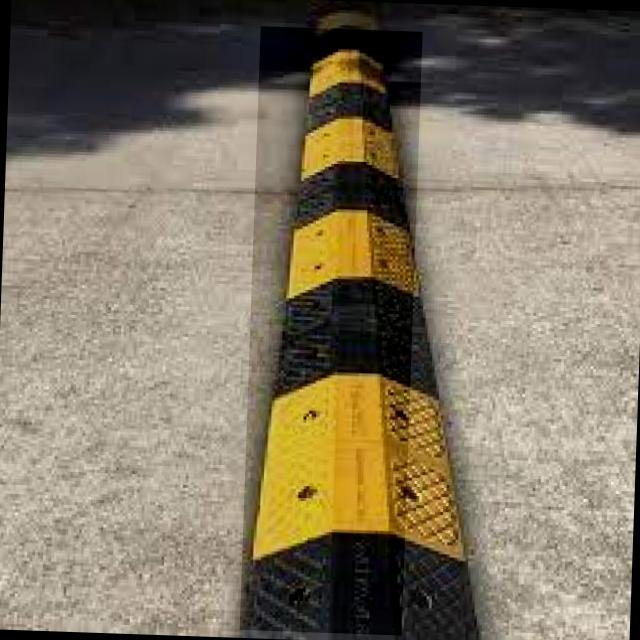bump: (239, 26, 422, 635)
